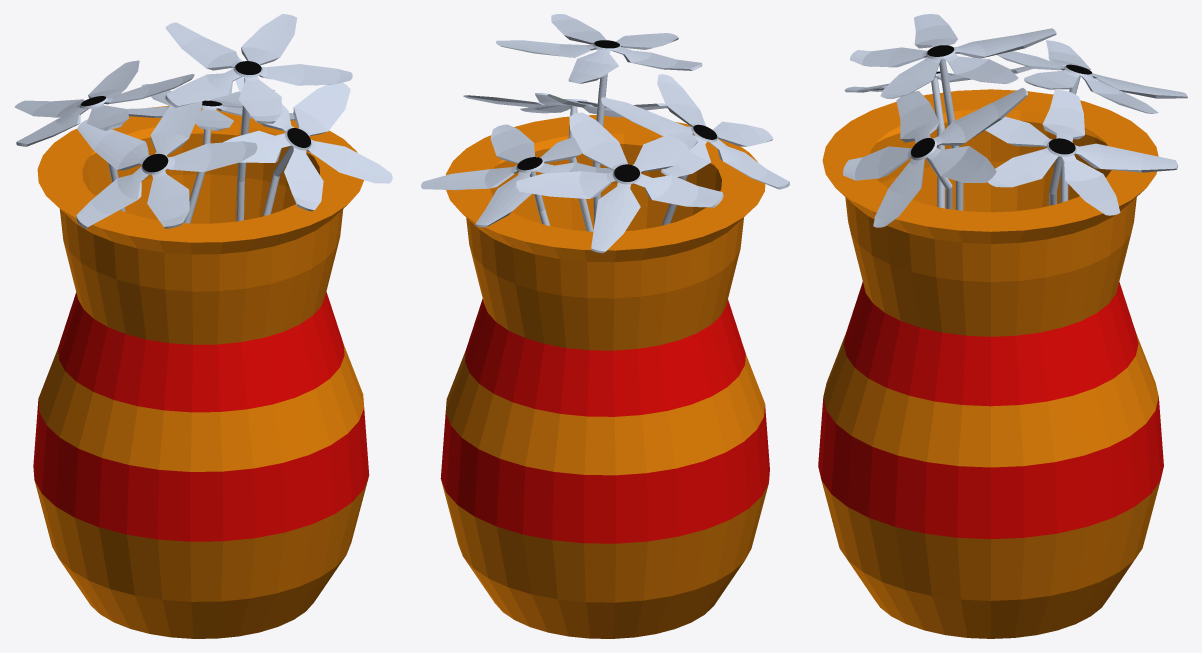
Rendered from VaseDemo.glb.
The picture shows the model from 3 angles, left to right: view 1: azimuth 30°, elevation 25°; view 2: azimuth 150°, elevation 25°; view 3: azimuth 270°, elevation 25°; orthographic projection. The views are drawn at different scales.
Parts seen in each view (by area): view 1: Cylinder_2; view 2: Cylinder_2; view 3: Cylinder_2.
Part boxes in pixels (box(x1,y1,x2,y2)): Cylinder_2: box(14, 14, 392, 638); Cylinder_2: box(421, 14, 789, 638); Cylinder_2: box(818, 14, 1187, 638).
Size of the model in its own units: 0.6037 by 1.04 by 0.6267.
